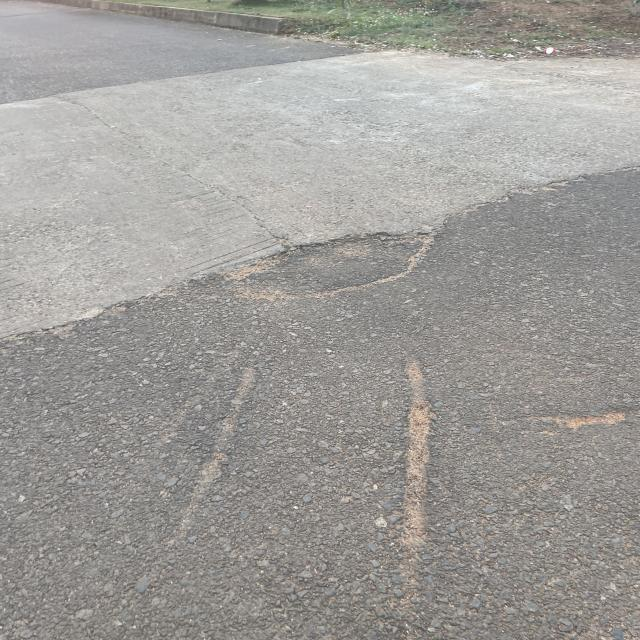D40: (13, 41, 616, 366)
D43: (62, 311, 555, 564)
